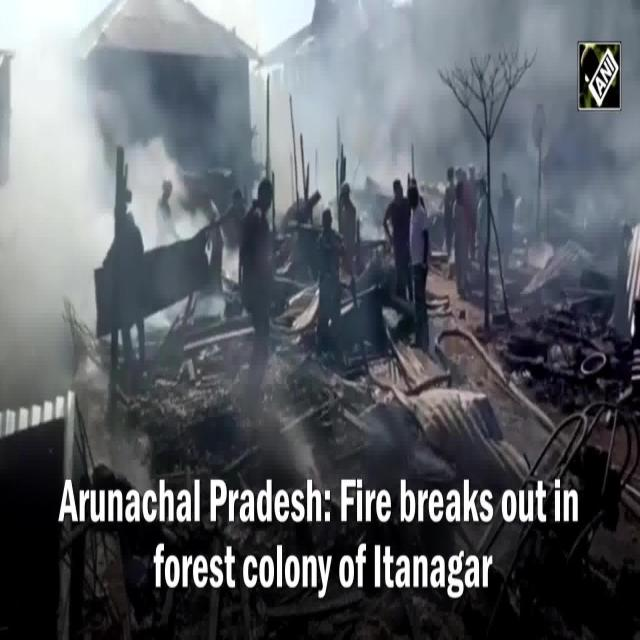smoke: (5, 28, 94, 364), (276, 65, 444, 166), (558, 119, 628, 238)
